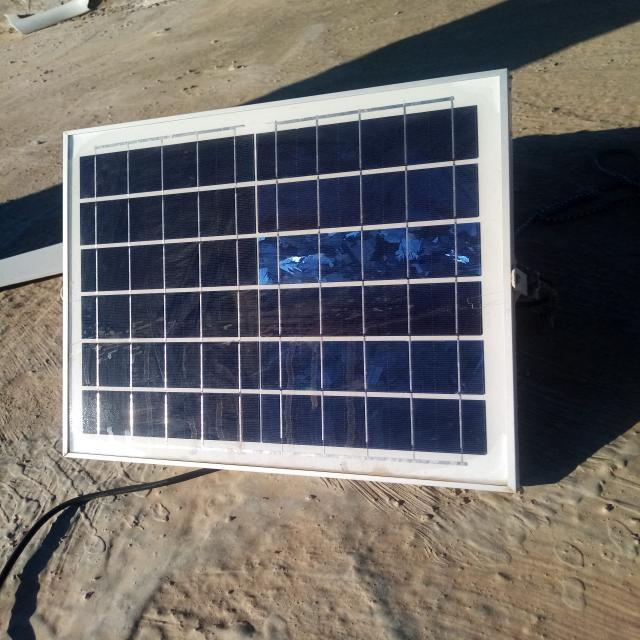no faulty: (64, 72, 513, 492)
